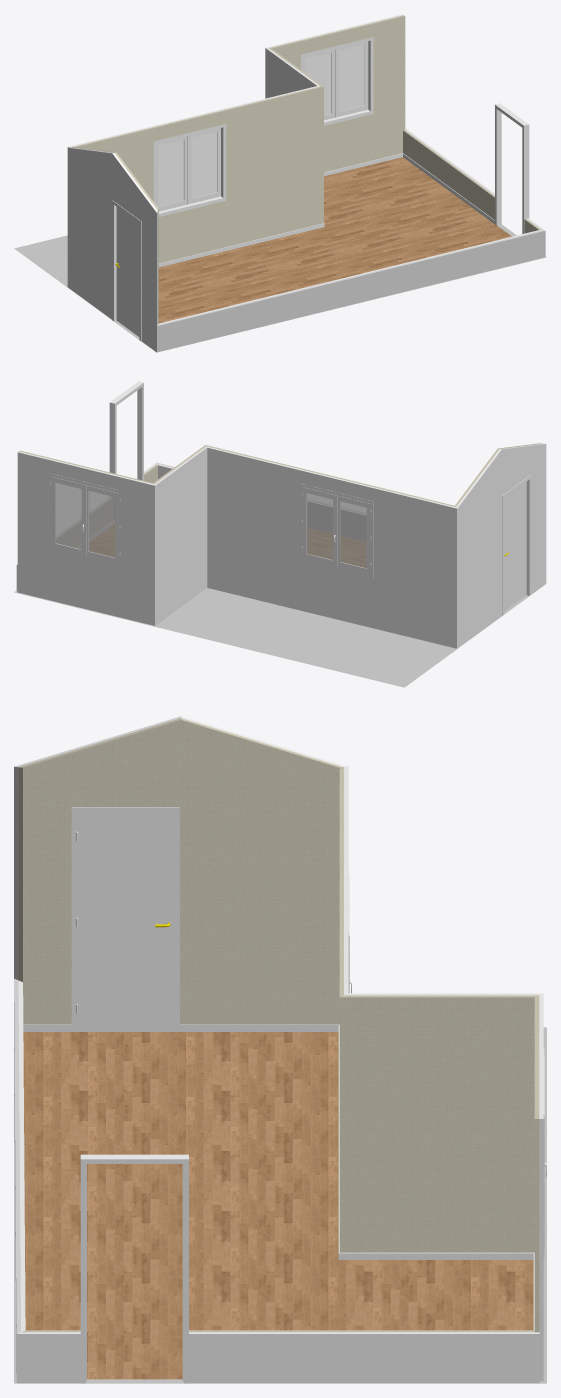
File: L-shape-home-interior.glb
The picture shows the model from 3 angles, top to bottom: view 1: azimuth 30°, elevation 25°; view 2: azimuth 150°, elevation 25°; view 3: azimuth 270°, elevation 25°; orthographic projection. The views are drawn at different scales.
Visible parts, largest first — view 1: Object_9, Object_3, Object_5, Object_6, Object_10, Object_4, Object_2, Object_7, Object_8; view 2: Object_5, Object_2, Object_10, Object_4, Object_3, Object_8, Object_9; view 3: Object_9, Object_3, Object_10, Object_5, Object_8, Object_7, Object_2, Object_6.
Boxes of the visible parts, box(x1,y1,x2,y2) form: Object_9: box(76, 16, 538, 323); Object_3: box(158, 157, 511, 323); Object_5: box(67, 14, 544, 352); Object_6: box(157, 230, 545, 352); Object_10: box(112, 37, 529, 341); Object_4: box(158, 45, 364, 206); Object_2: box(14, 224, 546, 352); Object_7: box(158, 153, 494, 267); Object_8: box(71, 15, 541, 230); Object_5: box(16, 443, 546, 648); Object_2: box(14, 583, 546, 687); Object_10: box(49, 381, 531, 615); Object_4: box(55, 483, 366, 568); Object_3: box(89, 524, 366, 567); Object_8: box(19, 443, 542, 539); Object_9: box(56, 465, 157, 547); Object_9: box(18, 720, 539, 1332); Object_3: box(23, 1032, 533, 1379); Object_10: box(71, 807, 546, 1383); Object_5: box(14, 716, 543, 1383); Object_8: box(19, 718, 539, 1332); Object_7: box(23, 1024, 534, 1330); Object_2: box(14, 1027, 546, 1383); Object_6: box(14, 978, 20, 1372).
Bounding box in the file's own units: 711 × 290 × 449.
Materials: 9 (2 with a texture image).
